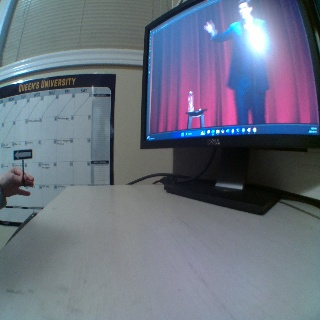sign_oneway_left: (12, 149, 32, 159)
